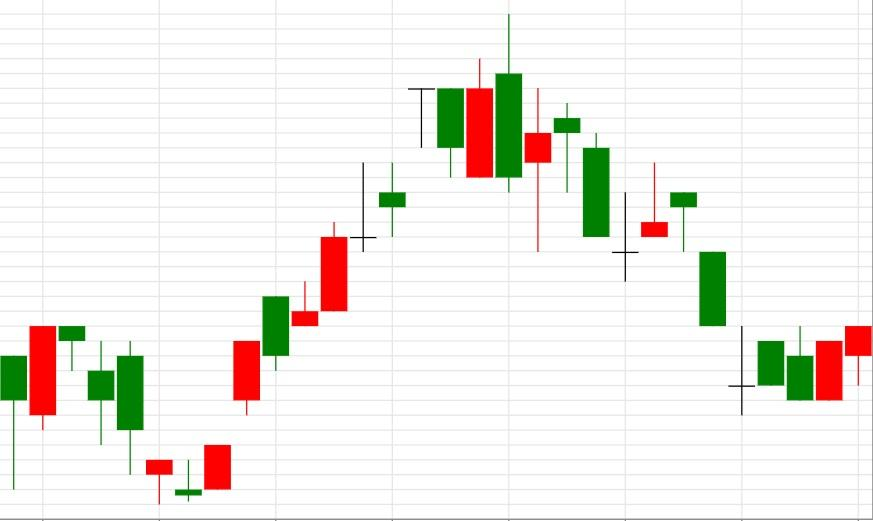bearish_engulfing_fall: (175, 14, 522, 500)
hanging_man_fall: (0, 325, 85, 489), (613, 163, 698, 281)
